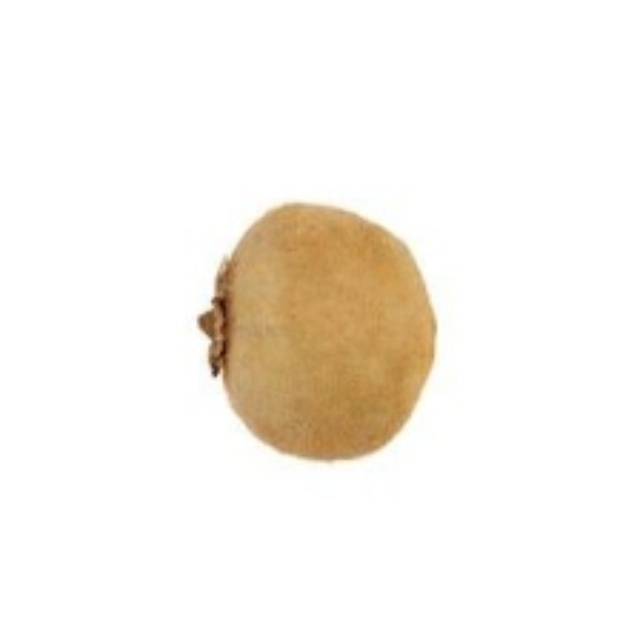kiwi: (197, 188, 465, 472)
